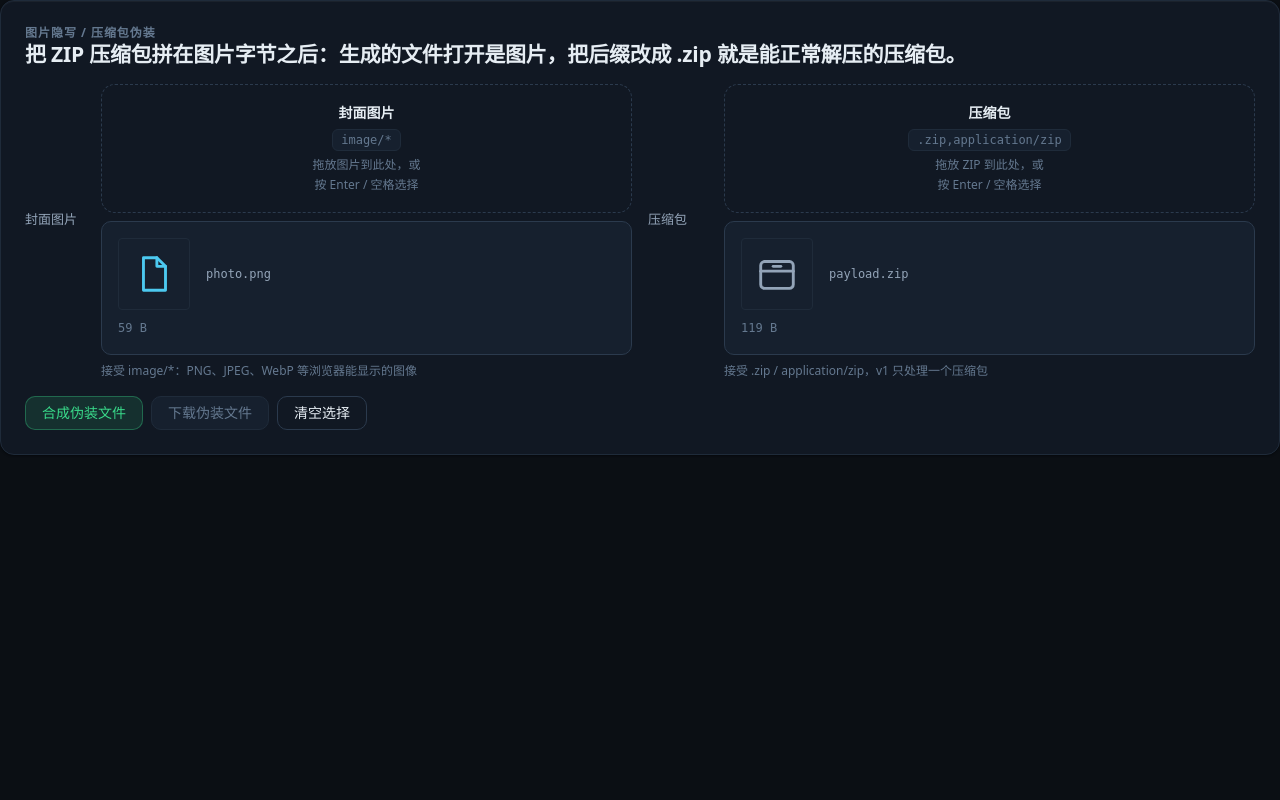
Test: MergePanel › renders the output filename with the image original extension
What coordinates should you click on to do the following:
click the button with id "merge-run"
I would click on:
 (84, 413)
Its box is x1=25 y1=396 x2=143 y2=430.
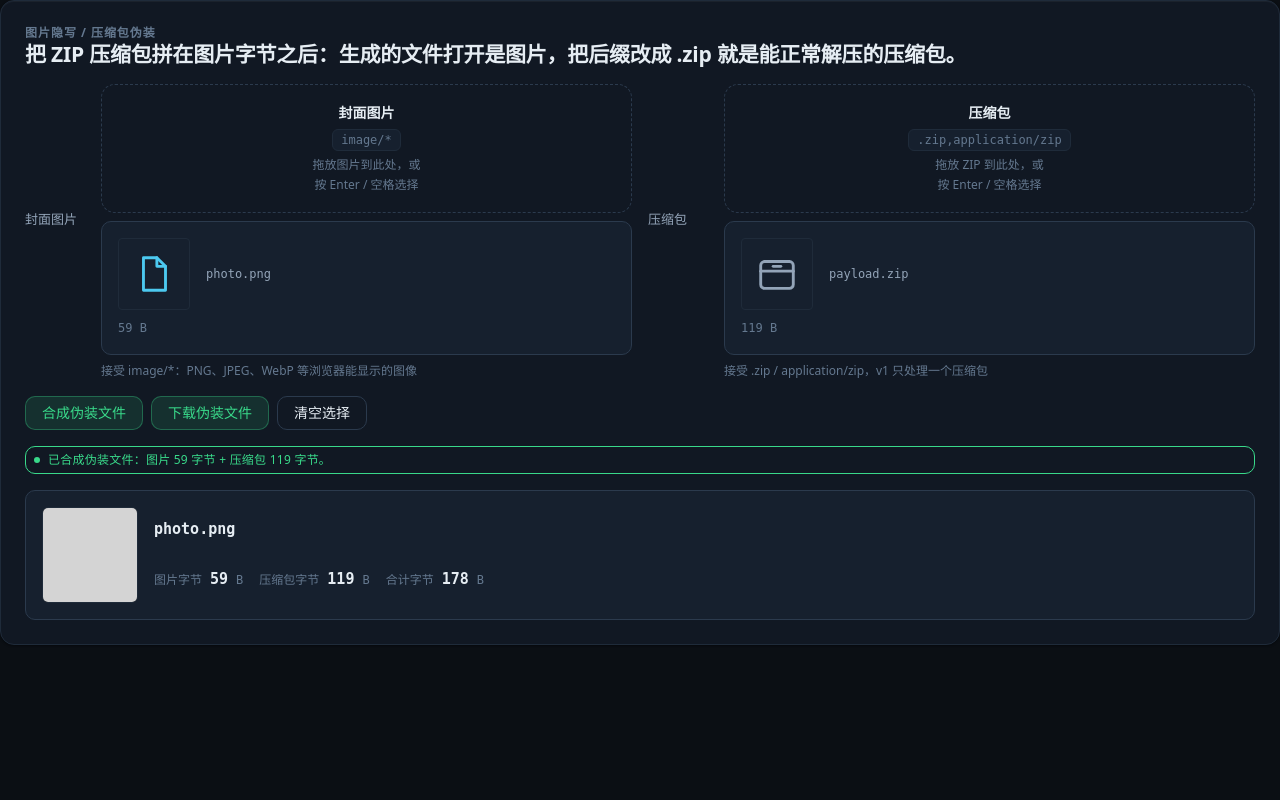
Now the text with test id "merge-output-name" reads "photo.png", box x1=154 y1=520 x2=235 y2=538
